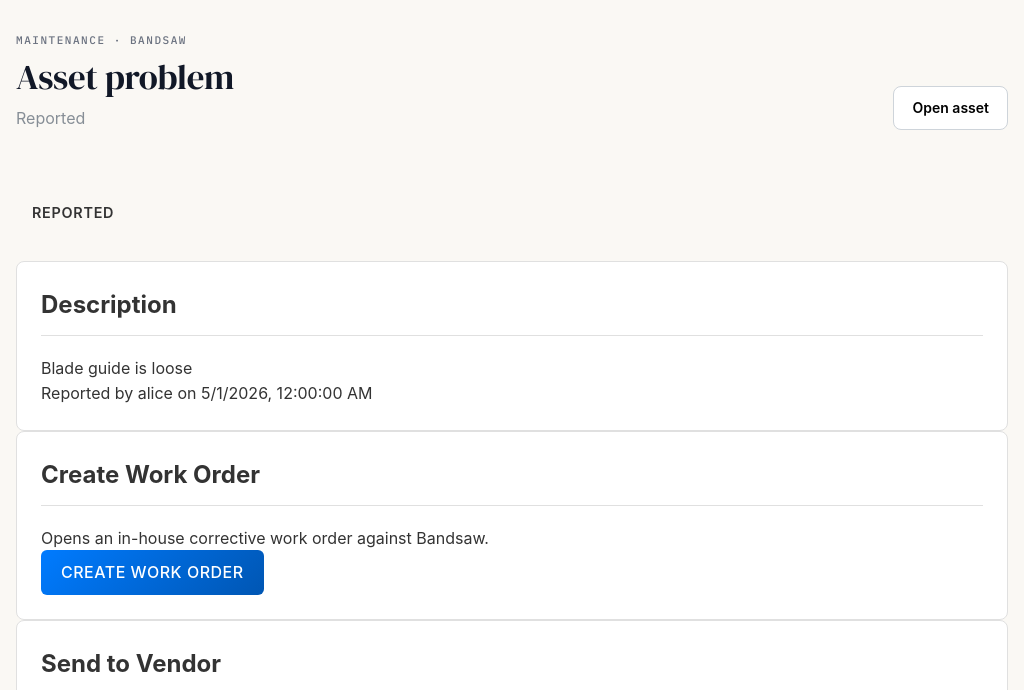
Test: AssetProblemDetailPage promote/resolve (op-ybpn) › promotes to an in-house work order and links to it — no follow-up GET
The image size is (1024, 690).
Expected: the text "Blade guide is loose" is shown, [41,358,192,378]
Click the button "Create Work Order" at (152, 573), box [41,550,264,595]
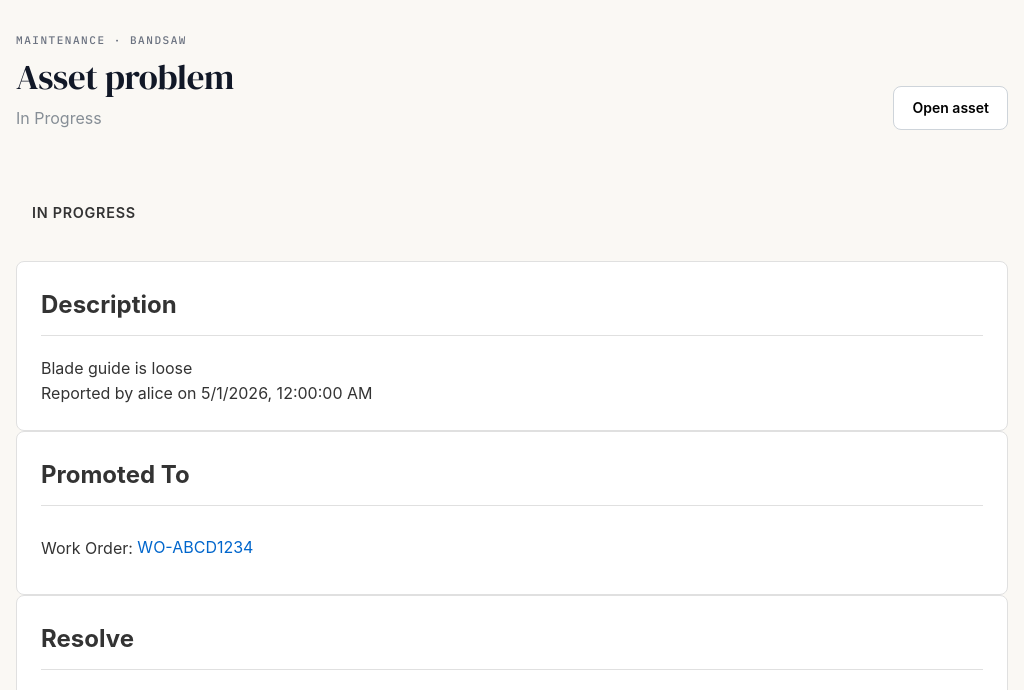
Now the heading "Create Work Order" is gone
